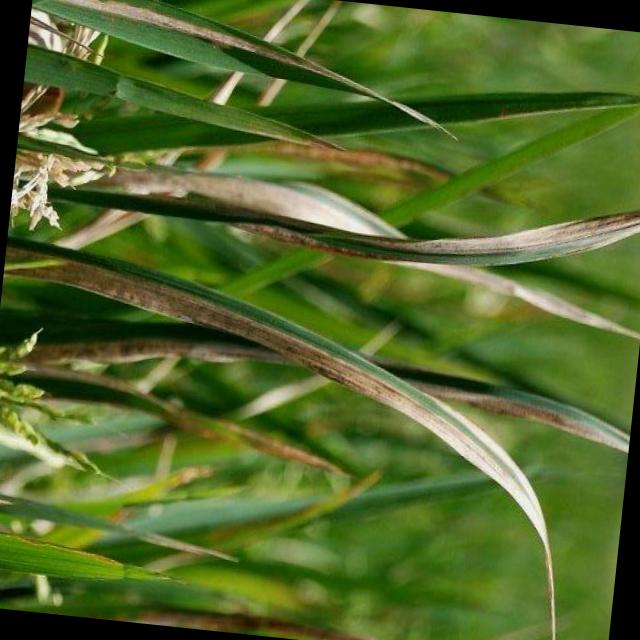Rice_Bacterial_Blight: (44, 252, 472, 448), (393, 180, 640, 309), (49, 0, 336, 74)
